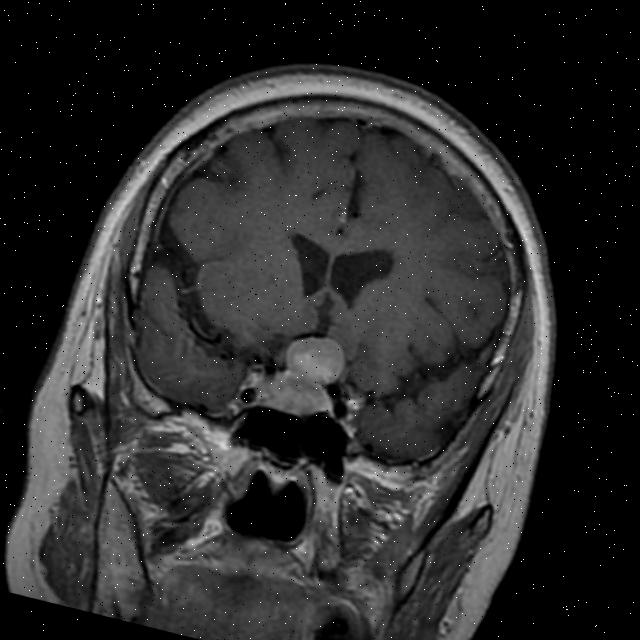Pituitary: (249, 321, 354, 426)
